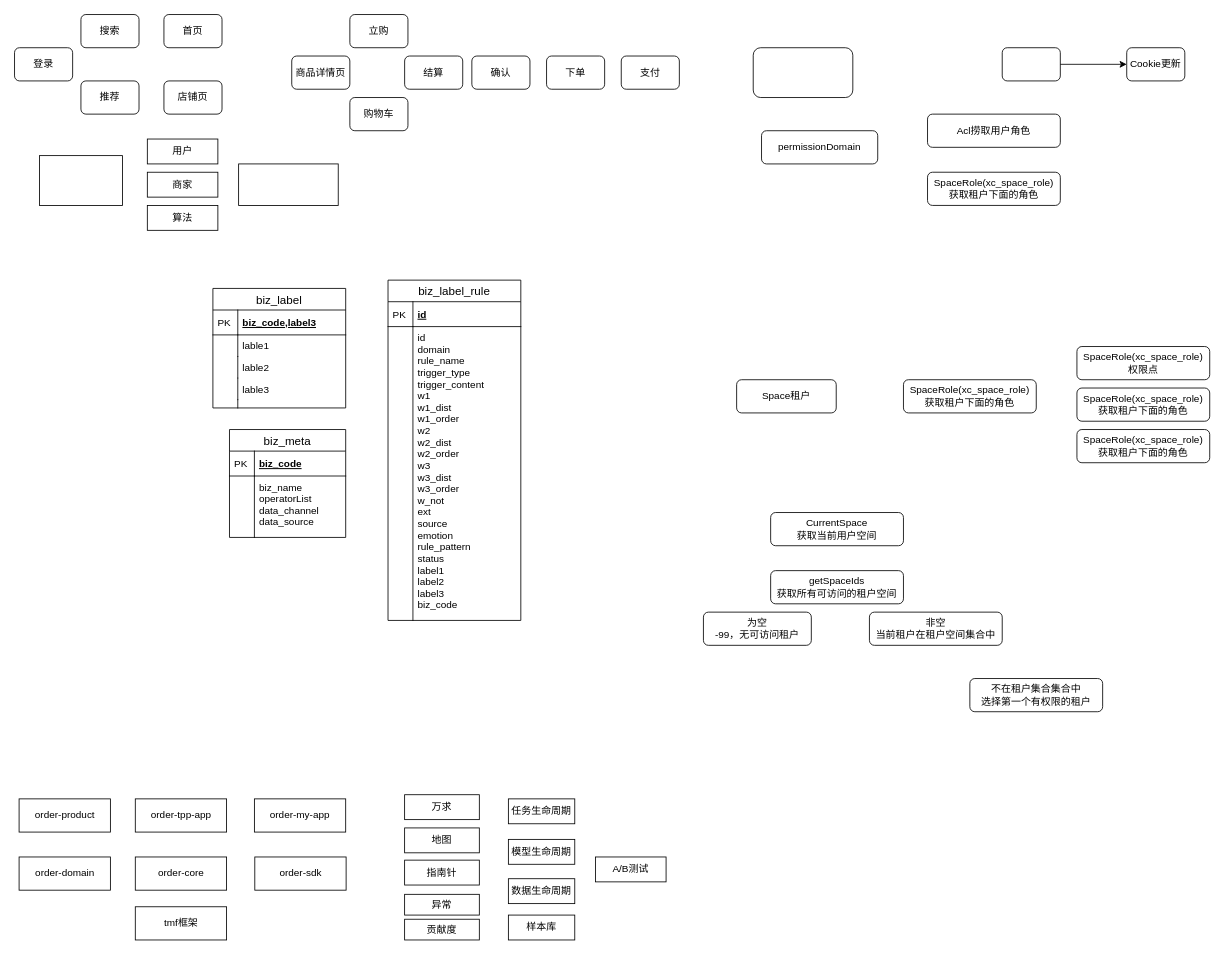
This 1224x955 diagram has some shape labels left out. The shapes that lost their labels are listed below. From the top down, each one's centre as x and y in pixels, then its label:
point (802, 72): 用户用户角色 haveRoles
point (1030, 64): spaceSet 修改租户
point (80, 180): 人群画像
point (288, 184): 问卷投放
